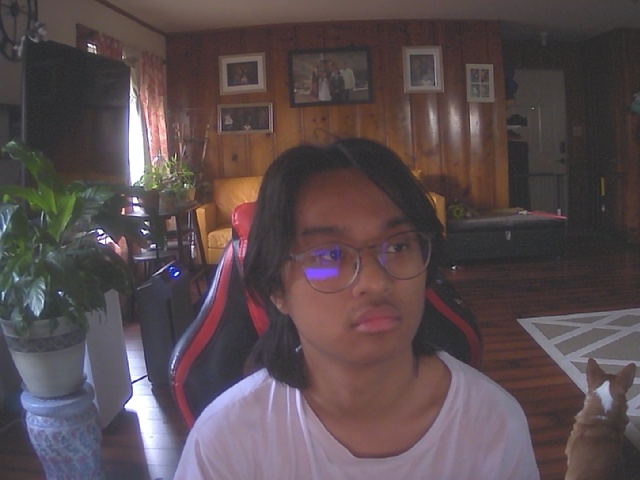neutral: (257, 141, 439, 366)
